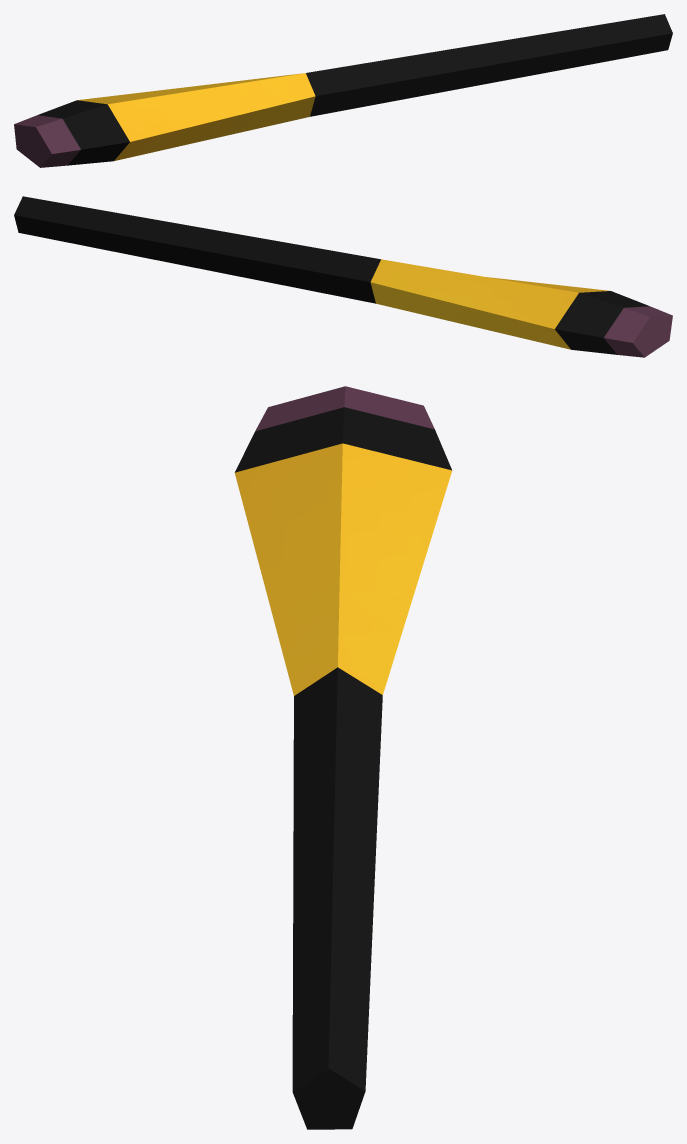
File: pennello1.fbx
3 views of the same model, one above another, from view 1: azimuth 30°, elevation 25°; view 2: azimuth 150°, elevation 25°; view 3: azimuth 270°, elevation 25° (orthographic). The views are drawn at different scales.
Visible parts, largest first — view 1: pennello1; view 2: pennello1; view 3: pennello1.
Part boxes in pixels (x1,y1,x2,y2): pennello1: [14, 14, 672, 167]; pennello1: [14, 196, 672, 357]; pennello1: [234, 386, 452, 1129].
Size of the model in its own units: 0.1431 by 0.016 by 0.0213.
